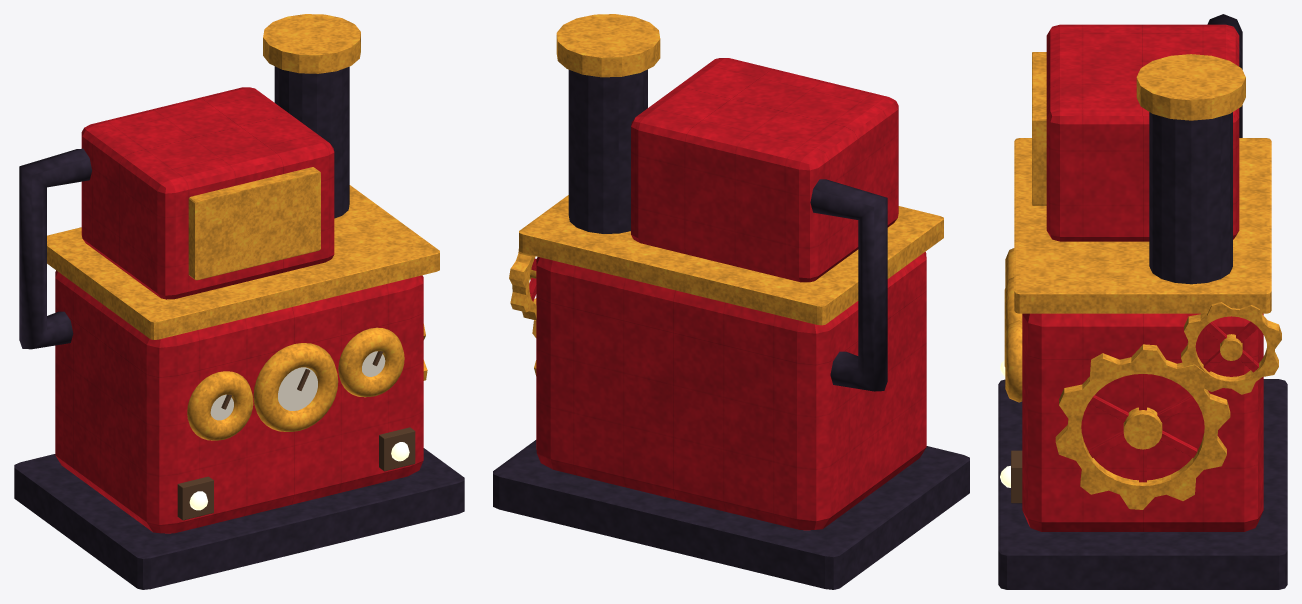
File: CHO_FactoryMachine.fbx
3 renders of one model, left to right at view 1: azimuth 30°, elevation 25°; view 2: azimuth 150°, elevation 25°; view 3: azimuth 270°, elevation 25°, orthographic. The views are drawn at different scales.
Visible parts, largest first — view 1: CHO_FactoryMachine; view 2: CHO_FactoryMachine; view 3: CHO_FactoryMachine.
Boxes of the visible parts, x1,y1,x2,y2 form: CHO_FactoryMachine: [14, 14, 464, 589]; CHO_FactoryMachine: [493, 14, 969, 589]; CHO_FactoryMachine: [998, 14, 1287, 589].
Size of the model in its own units: 2.73 by 3.27 by 1.8.
